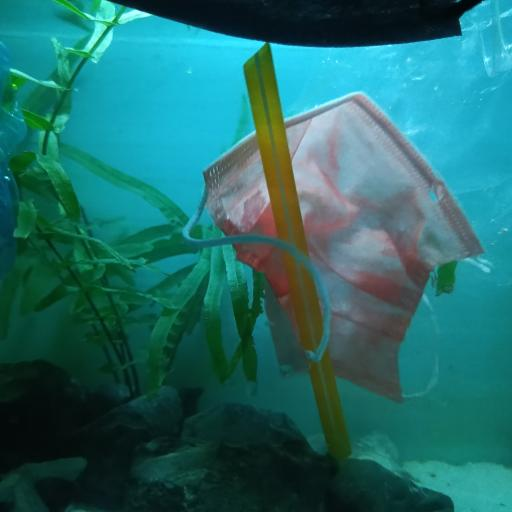mask: (184, 93, 496, 403), (109, 0, 485, 49)
plastic_bag: (308, 0, 512, 276)
plastic_straw: (240, 39, 352, 467)
